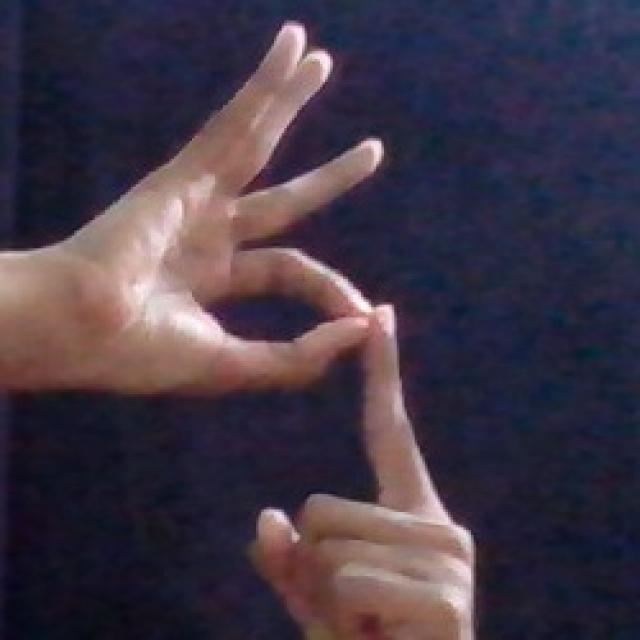Alphabet-P: (70, 24, 498, 640)
